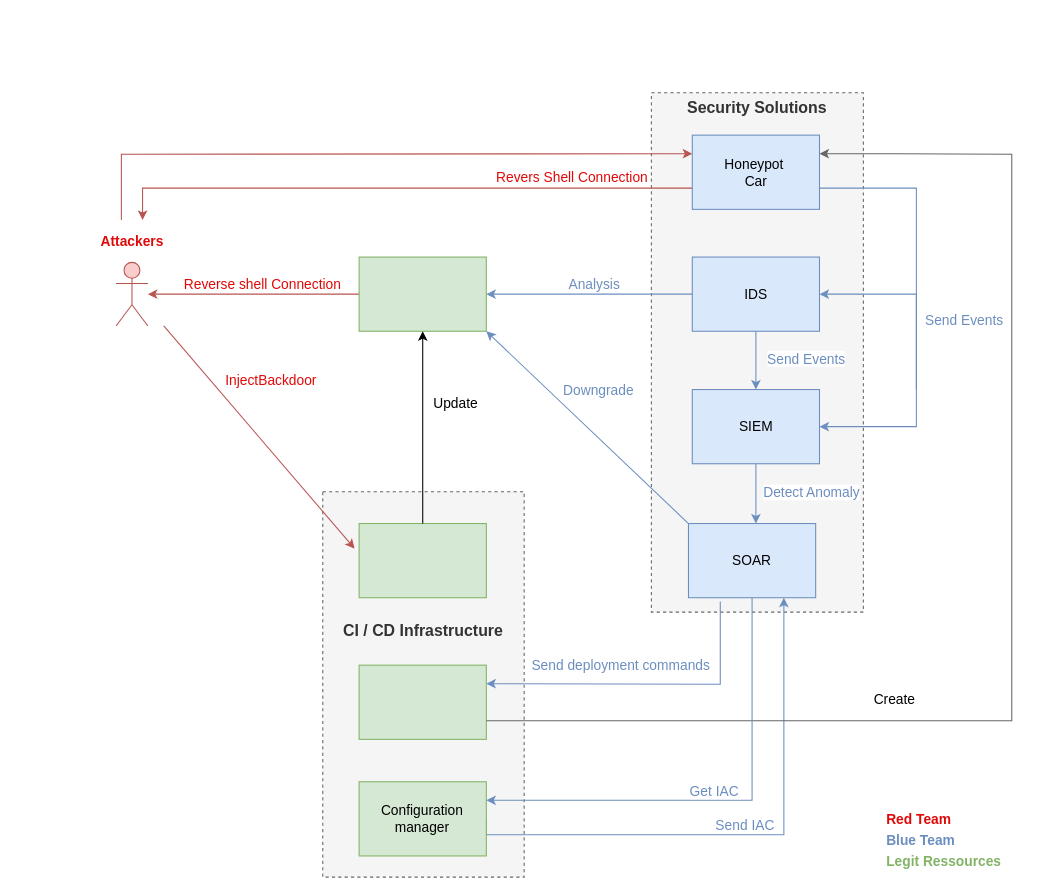
The diagram is 1039 pixels wide and 896 high, and some of its shapes have lost their labels. The centre of each missing label's shape, as x and y in pixels:
APT Repository: the point at 422,560
Legit Car: the point at 422,293
Sandbox Infrastructure: the point at 422,701
